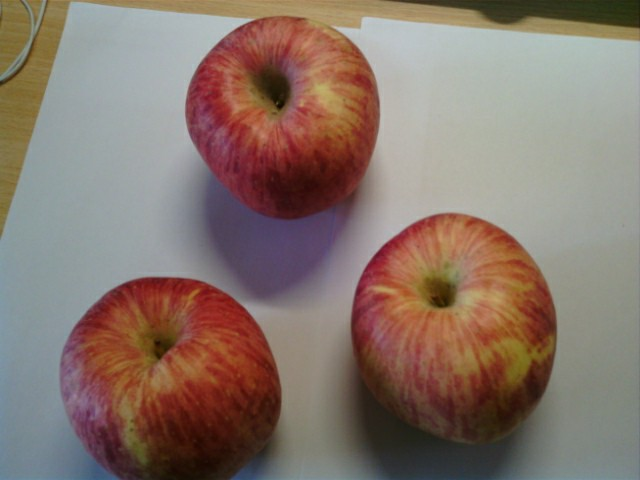normal_apple: (351, 212, 558, 442), (61, 278, 283, 480), (185, 16, 379, 218)
